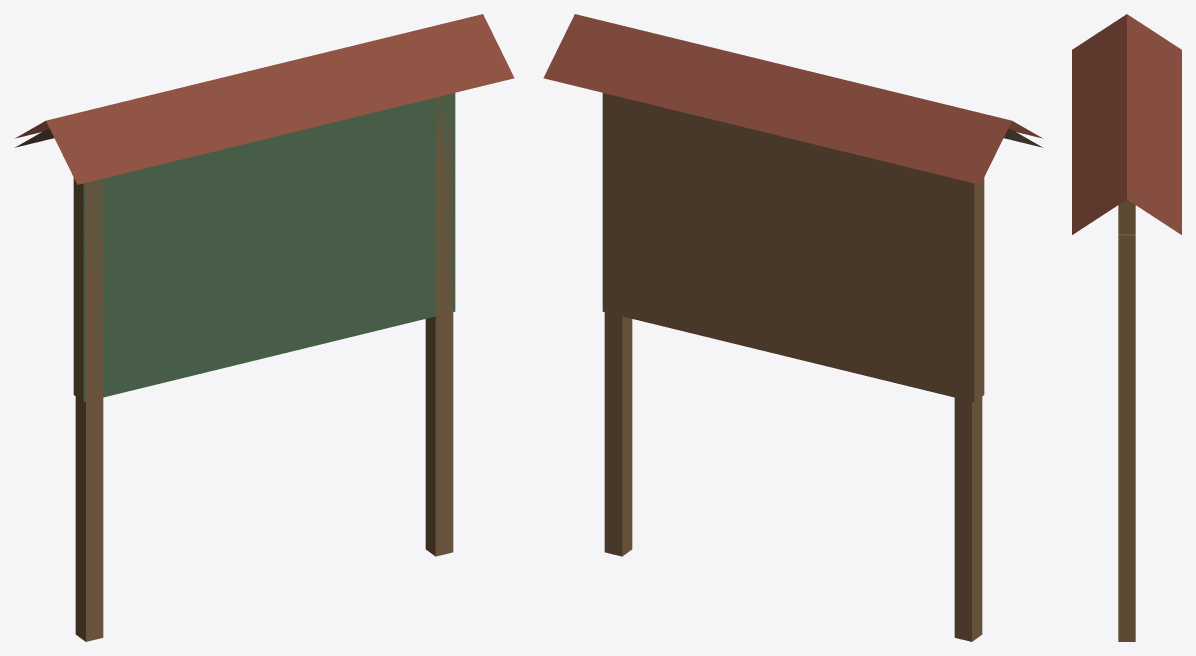
File: noticeboard.glb
3 views of the same model, side by side, from view 1: azimuth 30°, elevation 25°; view 2: azimuth 150°, elevation 25°; view 3: azimuth 270°, elevation 25° (orthographic). The views are drawn at different scales.
Visible parts, largest first — view 1: noticeboard; view 2: noticeboard; view 3: noticeboard.
Part boxes in pixels (bbox=[...]): noticeboard: bbox=[15, 14, 514, 641]; noticeboard: bbox=[543, 14, 1042, 641]; noticeboard: bbox=[1072, 14, 1181, 641].
Bounding box in the file's own units: 2 × 2.3 × 0.5.
